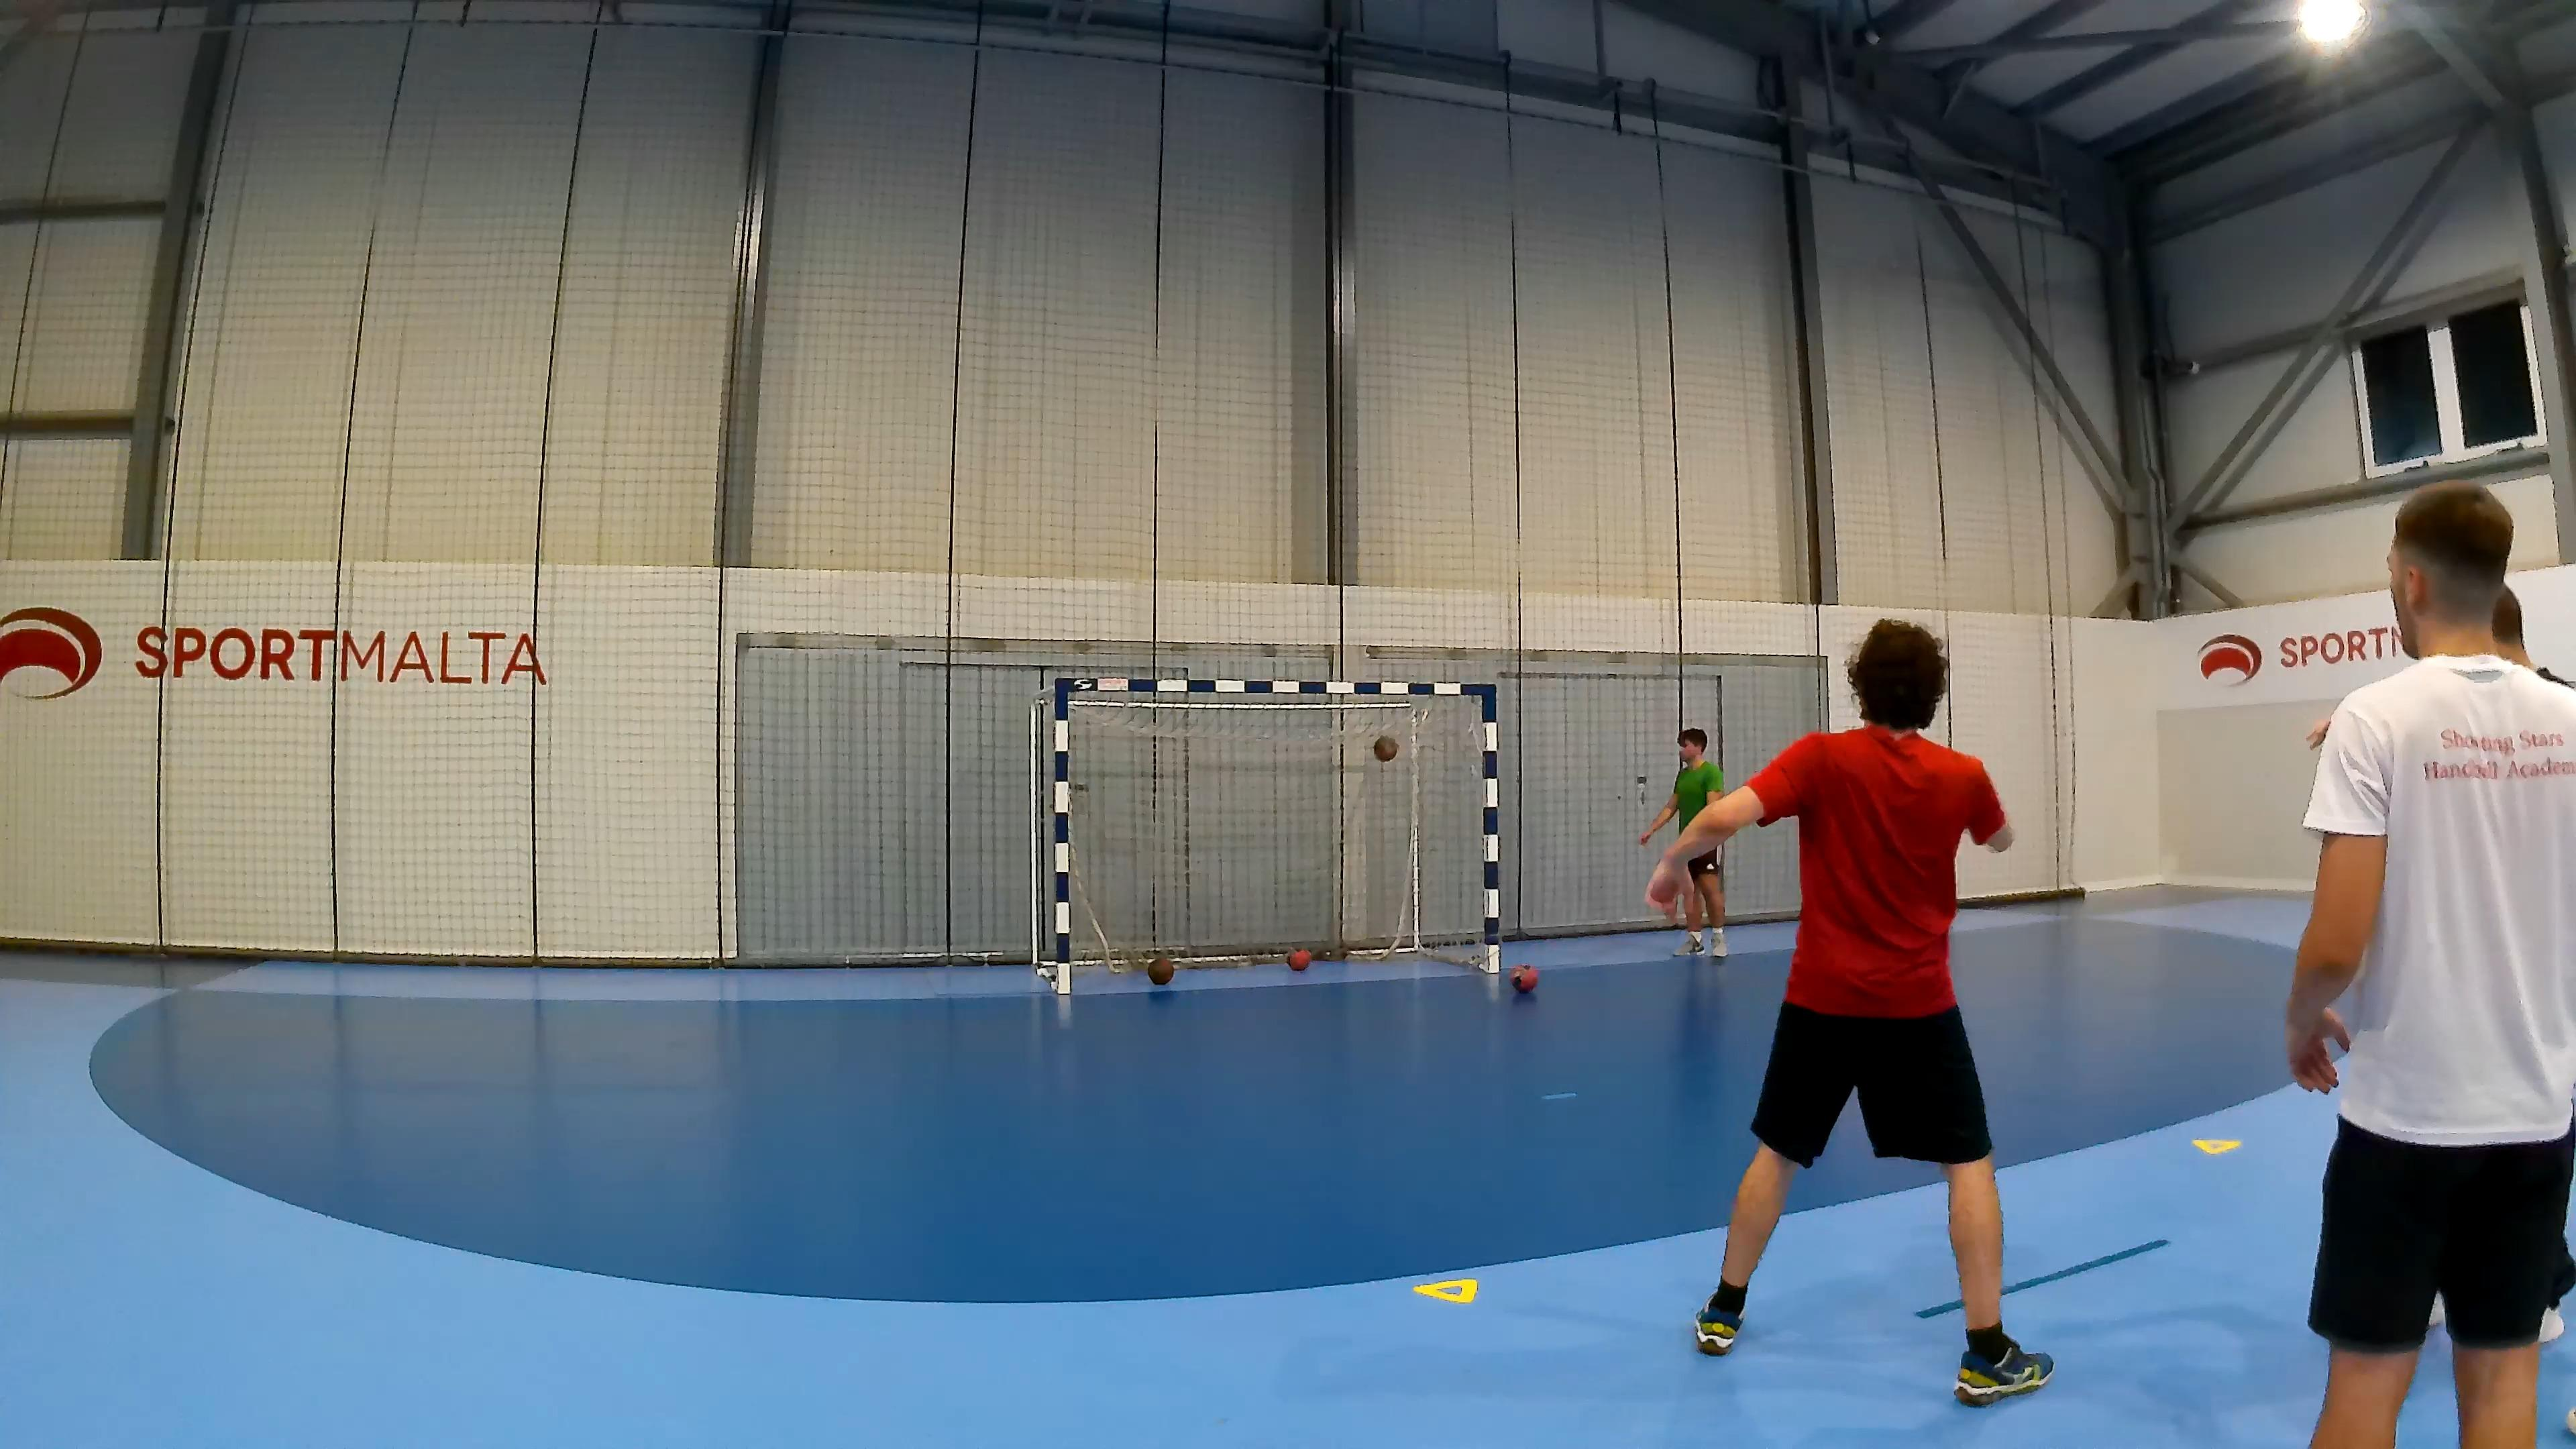handball: (1146, 954, 1175, 985), (1509, 962, 1537, 991), (1371, 734, 1398, 761), (1286, 947, 1309, 971)
